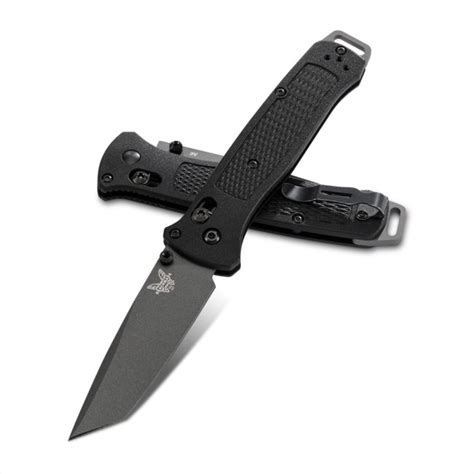knife: (65, 28, 373, 441), (95, 128, 410, 250)
